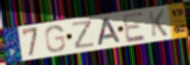7: (21, 26, 40, 58)
A: (96, 17, 123, 47)
E: (121, 10, 148, 44)
G: (43, 25, 67, 54)
K: (147, 9, 169, 38)
Z: (71, 19, 96, 51)
